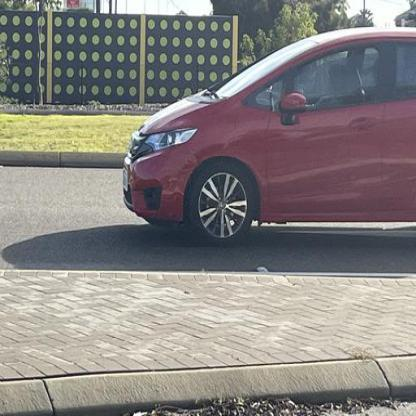Tire: (190, 162, 256, 246)
